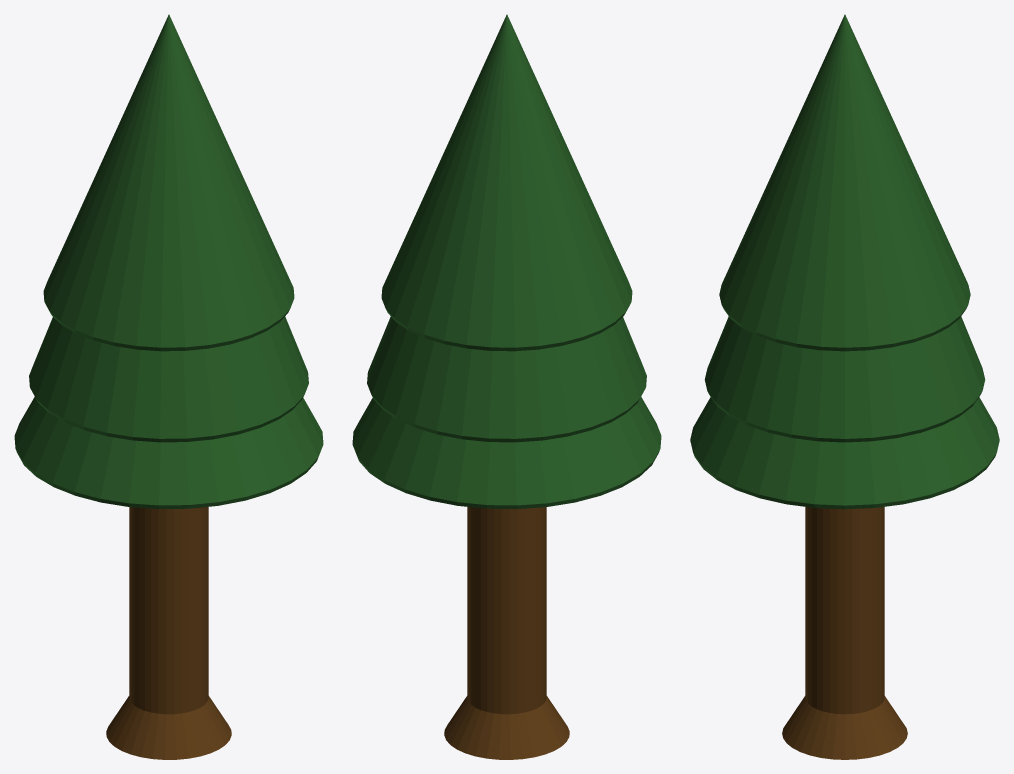
The model's file is Tree - Skinny - 1x2.5.glb.
The picture shows the model from 3 angles, left to right: view 1: azimuth 30°, elevation 25°; view 2: azimuth 150°, elevation 25°; view 3: azimuth 270°, elevation 25°; orthographic projection.
Visible parts, largest first — view 1: Tree - Skinny - 1x2.5; view 2: Tree - Skinny - 1x2.5; view 3: Tree - Skinny - 1x2.5.
Part boxes in pixels (x1,y1,x2,y2): Tree - Skinny - 1x2.5: (14,14,323,759); Tree - Skinny - 1x2.5: (352,14,661,759); Tree - Skinny - 1x2.5: (690,14,999,759).
Bounding box in the file's own units: 1.96 × 5.01 × 1.96.
